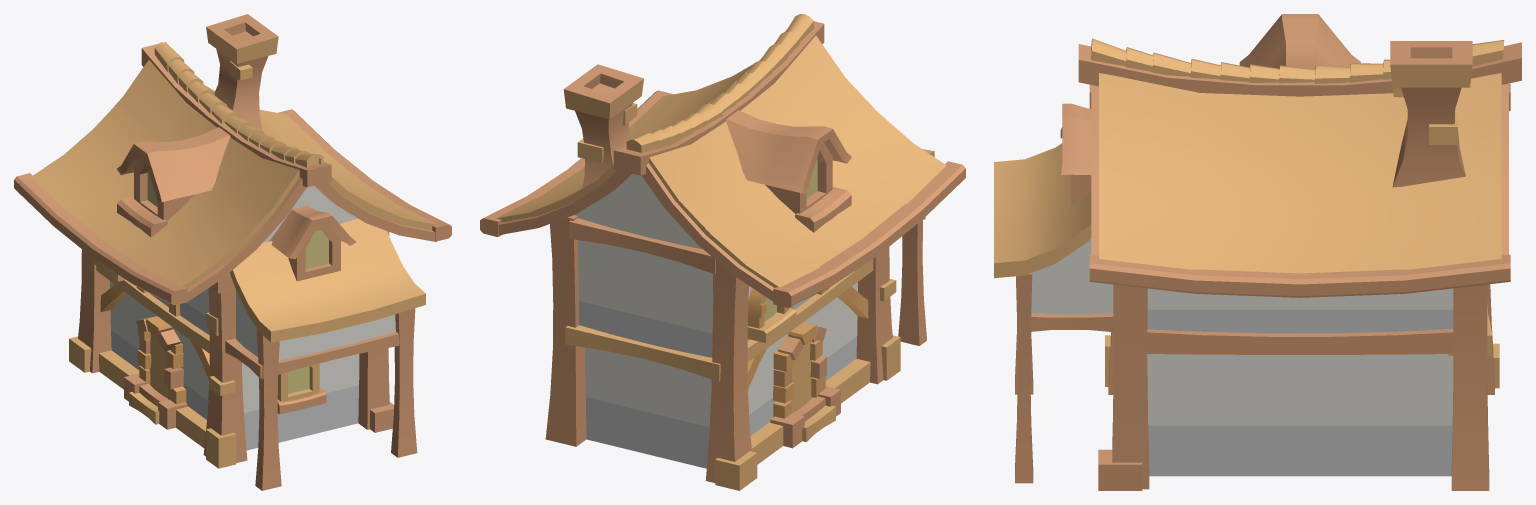
Rendered from tap fire house (1).fbx.
3 views of the same model, side by side, from view 1: azimuth 30°, elevation 25°; view 2: azimuth 150°, elevation 25°; view 3: azimuth 270°, elevation 25° (orthographic). The views are drawn at different scales.
Visible parts, largest first — view 1: polySurface1, polySurface52, polySurface2, polySurface12, polySurface71, polySurface72, polySurface4, polySurface48, polySurface8, polySurface50, polySurface13, polySurface51 (+21 smaller); view 2: polySurface1, polySurface3, polySurface2, polySurface12, polySurface39, polySurface6, polySurface72, polySurface71, polySurface8, polySurface4, polySurface36, polySurface37 (+17 smaller); view 3: polySurface8, polySurface2, polySurface3, polySurface87, polySurface52, polySurface71, polySurface6, polySurface57, polySurface7, polySurface5, polySurface12, polySurface13 (+13 smaller).
Part boxes in pixels (bbox=[...]): polySurface1: bbox=[31, 60, 299, 288]; polySurface52: bbox=[230, 218, 425, 342]; polySurface2: bbox=[110, 281, 359, 450]; polySurface12: bbox=[117, 127, 230, 220]; polySurface71: bbox=[206, 14, 278, 131]; polySurface72: bbox=[14, 173, 187, 305]; polySurface4: bbox=[203, 273, 247, 462]; polySurface48: bbox=[269, 205, 356, 281]; polySurface8: bbox=[204, 85, 436, 230]; polySurface50: bbox=[255, 329, 281, 490]; polySurface13: bbox=[236, 290, 395, 360]; polySurface51: bbox=[391, 308, 417, 457]; polySurface1: bbox=[649, 35, 946, 287]; polySurface3: bbox=[574, 173, 815, 357]; polySurface2: bbox=[585, 282, 857, 468]; polySurface12: bbox=[725, 110, 851, 213]; polySurface39: bbox=[706, 260, 751, 482]; polySurface6: bbox=[545, 215, 586, 446]; polySurface72: bbox=[773, 161, 965, 307]; polySurface71: bbox=[563, 64, 643, 188]; polySurface8: bbox=[496, 64, 752, 222]; polySurface4: bbox=[856, 247, 892, 384]; polySurface36: bbox=[565, 325, 720, 381]; polySurface37: bbox=[569, 218, 715, 274]; polySurface8: bbox=[1099, 73, 1501, 273]; polySurface2: bbox=[1147, 354, 1453, 476]; polySurface3: bbox=[1147, 288, 1453, 333]; polySurface87: bbox=[1089, 254, 1510, 297]; polySurface52: bbox=[994, 143, 1091, 278]; polySurface71: bbox=[1390, 41, 1472, 187]; polySurface6: bbox=[1451, 284, 1489, 490]; polySurface57: bbox=[1147, 329, 1453, 354]; polySurface7: bbox=[1112, 284, 1149, 489]; polySurface5: bbox=[1078, 42, 1521, 96]; polySurface12: bbox=[1239, 14, 1360, 69]; polySurface13: bbox=[1031, 238, 1113, 314].
Size of the model in its own units: 7.36 by 7.86 by 8.96.
